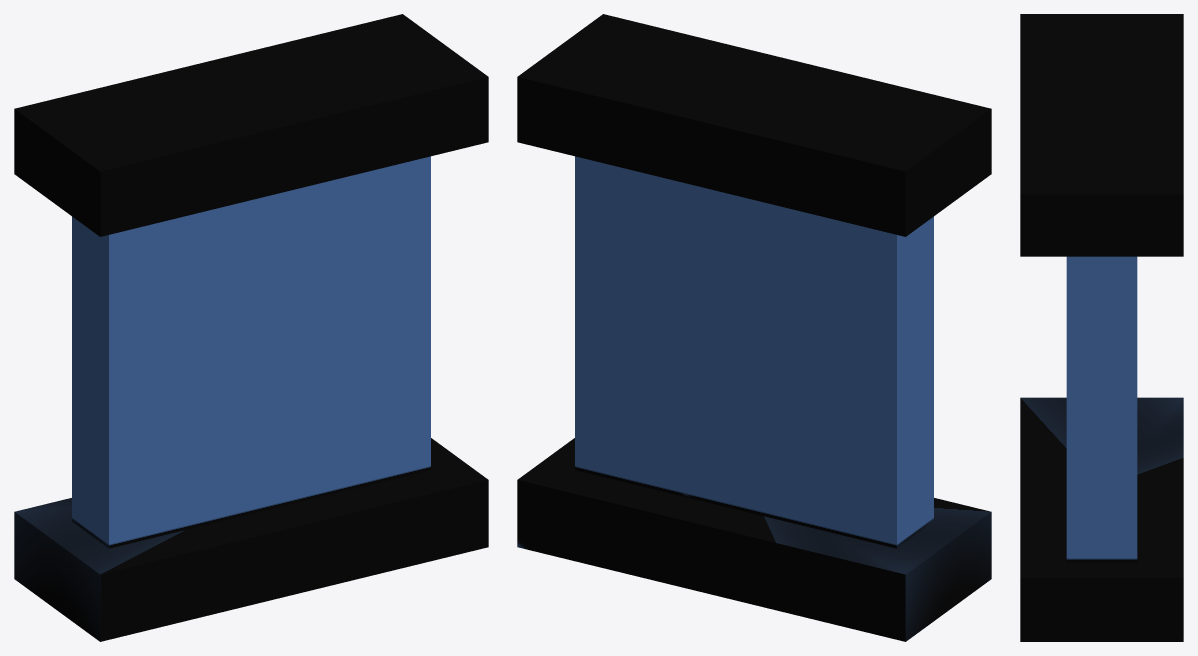
File: portal.fbx
3 views of the same model, side by side, from view 1: azimuth 30°, elevation 25°; view 2: azimuth 150°, elevation 25°; view 3: azimuth 270°, elevation 25° (orthographic). The views are drawn at different scales.
Parts seen in each view (by area): view 1: Cube.001, Cube; view 2: Cube.001, Cube; view 3: Cube, Cube.001.
Part boxes in pixels (x1,y1,x2,y2): Cube.001: [72, 156, 430, 548]; Cube: [14, 14, 488, 641]; Cube.001: [575, 156, 933, 548]; Cube: [517, 14, 991, 641]; Cube: [1020, 14, 1183, 641]; Cube.001: [1066, 256, 1137, 562].
Bounding box in the file's own units: 603 × 698 × 231.
Materials: 2 (2 with a texture image).
